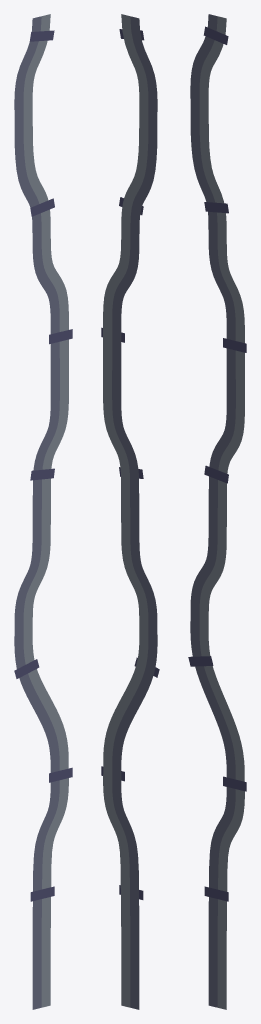
File: pipe_game.fbx
The picture shows the model from 3 angles, left to right: view 1: azimuth 30°, elevation 25°; view 2: azimuth 150°, elevation 25°; view 3: azimuth 330°, elevation 25°; orthographic projection.
Parts seen in each view (by area): view 1: pipe_big, pCube8; view 2: pipe_big, pCube8; view 3: pipe_big, pCube8.
Boxes of the visible parts, x1,y1,x2,y2 form: pipe_big: (14, 14, 68, 1009); pCube8: (14, 30, 72, 901); pipe_big: (103, 14, 157, 1009); pCube8: (101, 29, 159, 899); pipe_big: (190, 14, 244, 1009); pCube8: (188, 26, 246, 901).
Bounding box in the file's own units: 3.21 × 52 × 0.0945.
